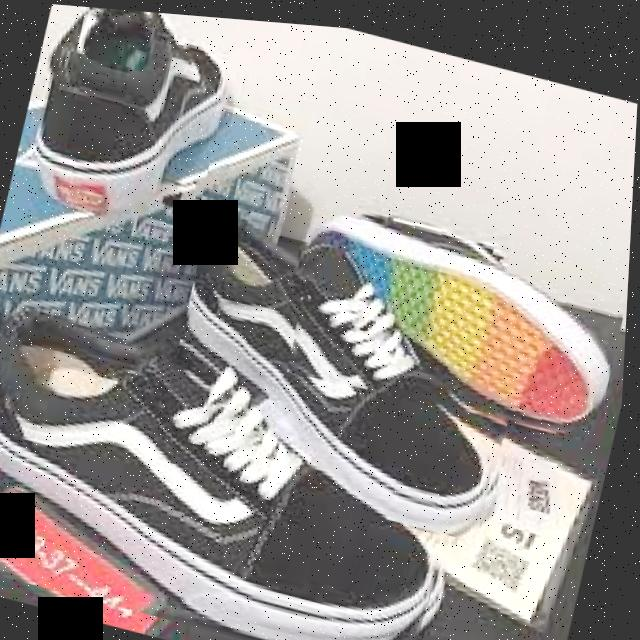shoe: (0, 299, 490, 640), (155, 195, 549, 539), (284, 176, 634, 442), (14, 1, 245, 245)
